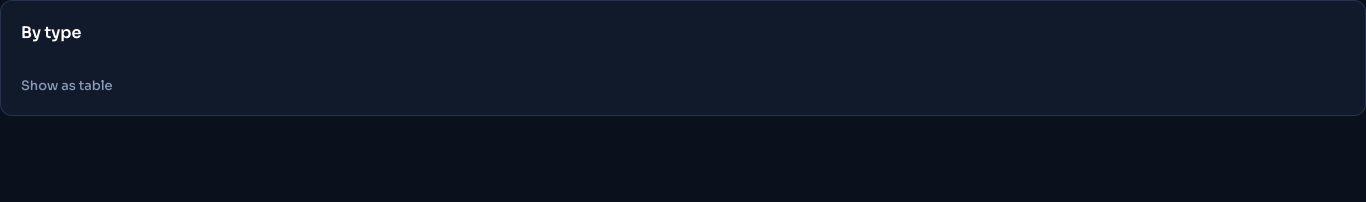
dashboard charts › offers every chart as a table
Click the button "Show as table": (67, 86) 21,77 -> 113,95
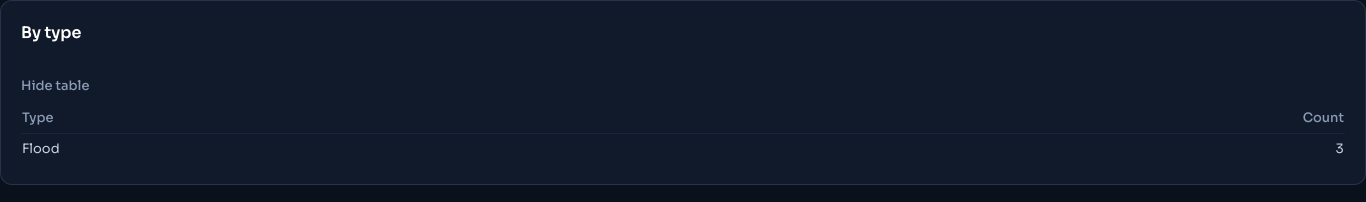
Now the cell "Flood" is shown, box 21,134 -> 653,164
